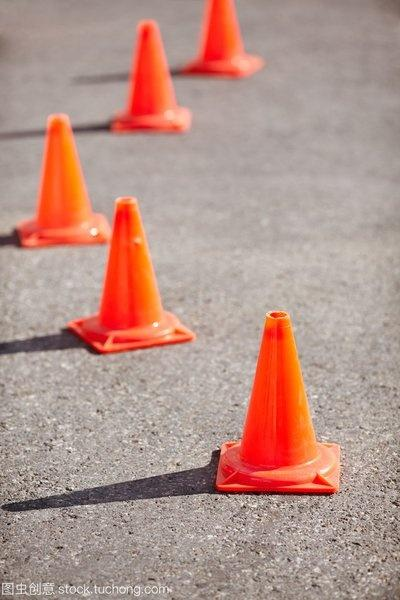cone_barrel: (221, 311, 338, 487), (73, 199, 185, 345), (16, 114, 107, 244), (108, 17, 190, 133)
